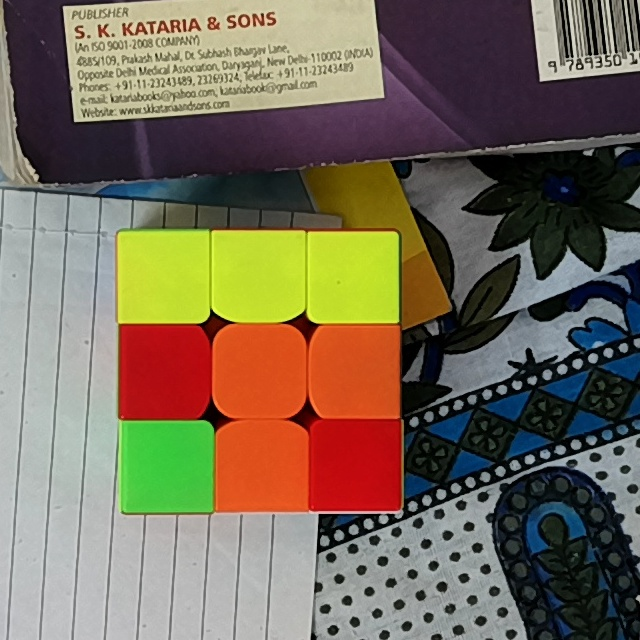tile: (311, 235, 395, 318), (121, 426, 211, 503), (315, 425, 398, 505), (319, 329, 396, 411), (223, 429, 305, 506), (125, 329, 201, 412), (217, 234, 301, 309), (123, 236, 203, 314), (223, 333, 296, 408)
